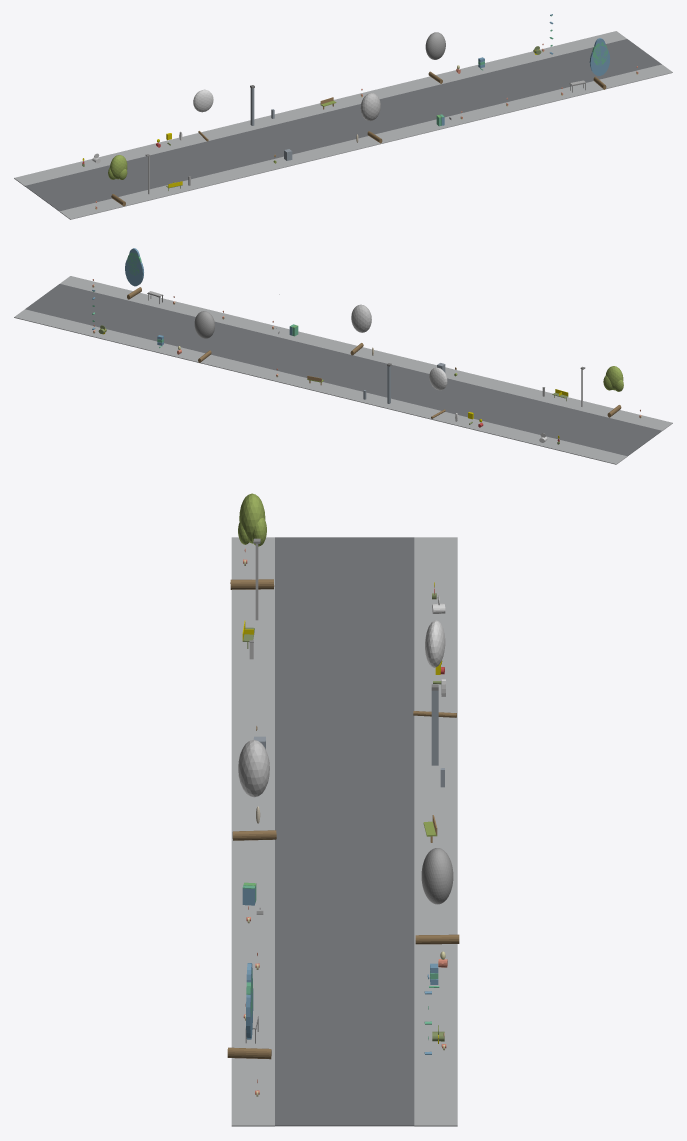
The picture shows the model from 3 angles, top to bottom: view 1: azimuth 30°, elevation 25°; view 2: azimuth 150°, elevation 25°; view 3: azimuth 270°, elevation 25°; orthographic projection. The views are drawn at different scales.
Visible parts, largest first — view 1: road_slab, sidewalk_left, sidewalk_right, inst_0016, inst_0014, inst_0015, inst_0012, inst_0013; view 2: road_slab, sidewalk_right, sidewalk_left, inst_0016, inst_0014, inst_0015, inst_0012, inst_0013; view 3: road_slab, sidewalk_left, sidewalk_right, inst_0014, inst_0015, inst_0012, inst_0016, inst_0013.
Boxes of the visible parts, x1,y1,x2,y2 form: road_slab: [25, 39, 661, 211]; sidewalk_left: [59, 64, 672, 219]; sidewalk_right: [14, 31, 626, 186]; inst_0016: [589, 38, 610, 89]; inst_0014: [360, 93, 382, 143]; inst_0015: [425, 32, 445, 83]; inst_0012: [108, 155, 127, 206]; inst_0013: [193, 89, 213, 141]; road_slab: [25, 284, 661, 456]; sidewalk_right: [14, 309, 627, 464]; sidewalk_left: [60, 276, 672, 430]; inst_0016: [125, 248, 143, 299]; inst_0014: [350, 304, 371, 355]; inst_0015: [194, 311, 214, 362]; inst_0012: [603, 366, 623, 417]; inst_0013: [429, 367, 447, 418]; road_slab: [275, 537, 414, 1126]; sidewalk_left: [231, 537, 274, 1126]; sidewalk_right: [414, 537, 457, 1126]; inst_0014: [232, 739, 276, 840]; inst_0015: [415, 848, 459, 944]; inst_0012: [230, 493, 274, 589]; inst_0016: [227, 963, 271, 1059]; inst_0013: [413, 620, 456, 717].
Bounding box in the file's own units: 80 × 6.08 × 13.32.
